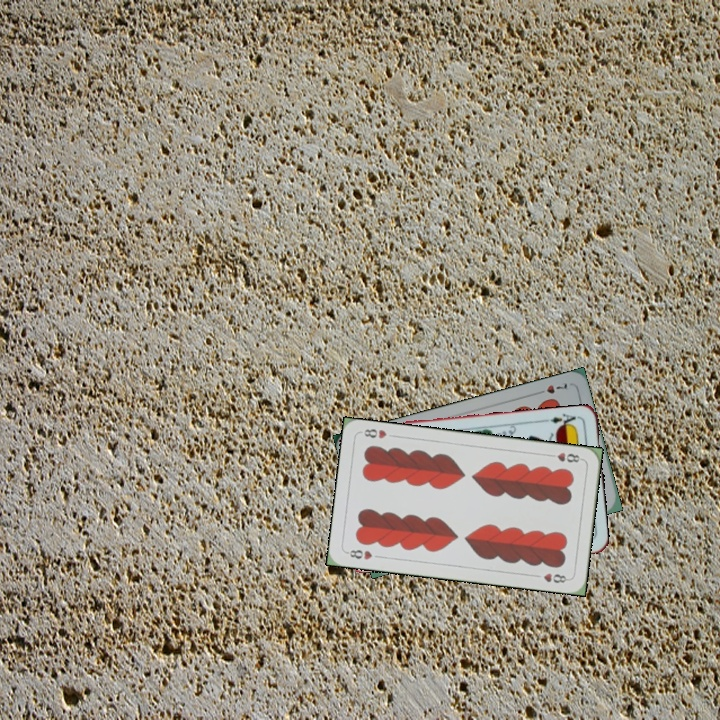EA: (541, 410, 582, 430)
H7: (532, 379, 570, 397)
H8: (544, 449, 585, 465), (343, 546, 375, 562)
